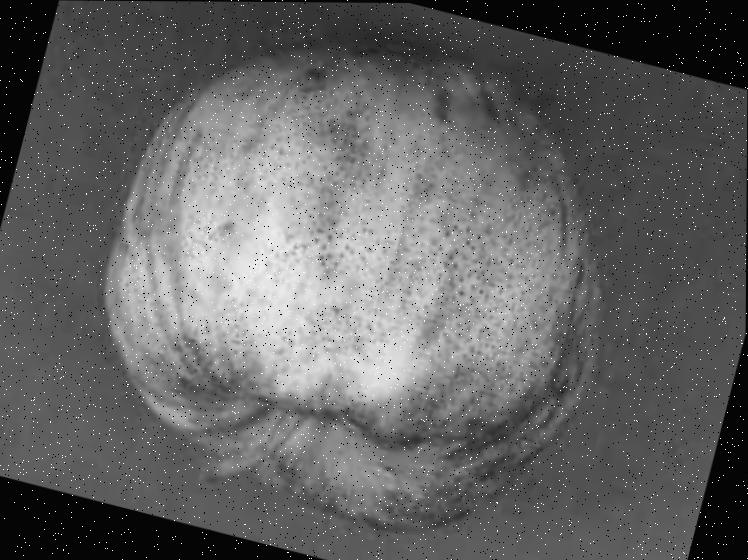BLOTCH: (30, 0, 676, 560)
